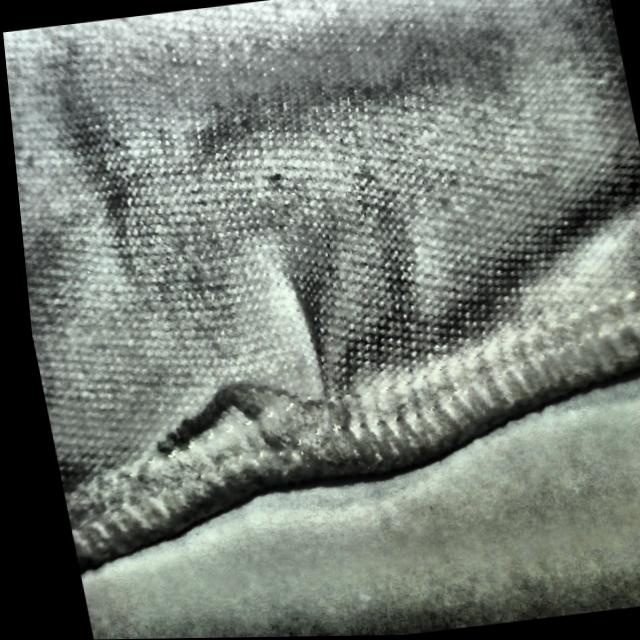seam: (131, 279, 392, 515)
